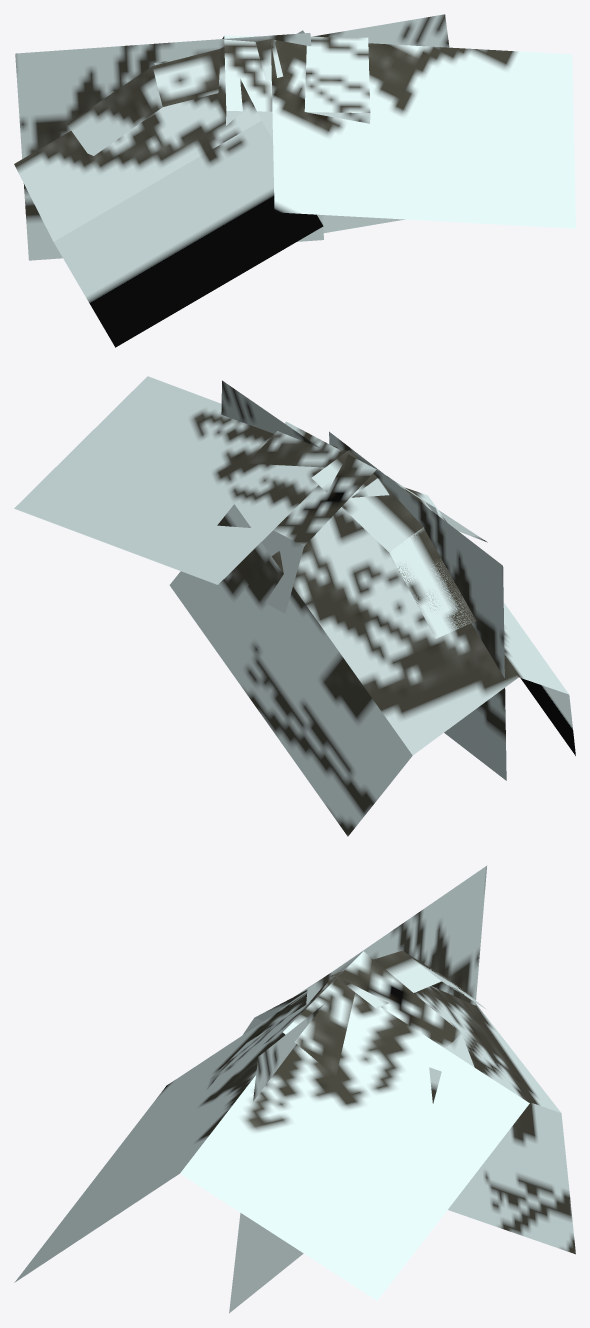
Rendered from spruce_branch_dead_2.obj.
The picture shows the model from 3 angles, top to bottom: view 1: azimuth 30°, elevation 25°; view 2: azimuth 150°, elevation 25°; view 3: azimuth 270°, elevation 25°; orthographic projection. The views are drawn at different scales.
Visible parts, largest first — view 1: plane, cube; view 2: plane, cube; view 3: plane, cube.
Part boxes in pixels (x1,y1,x2,y2): plane: [14, 30, 575, 347]; cube: [15, 14, 449, 260]; plane: [14, 376, 575, 836]; cube: [221, 380, 506, 780]; plane: [14, 951, 575, 1300]; cube: [229, 865, 487, 1313].
Bounding box in the file's own units: 3.01 × 1.55 × 2.27.
